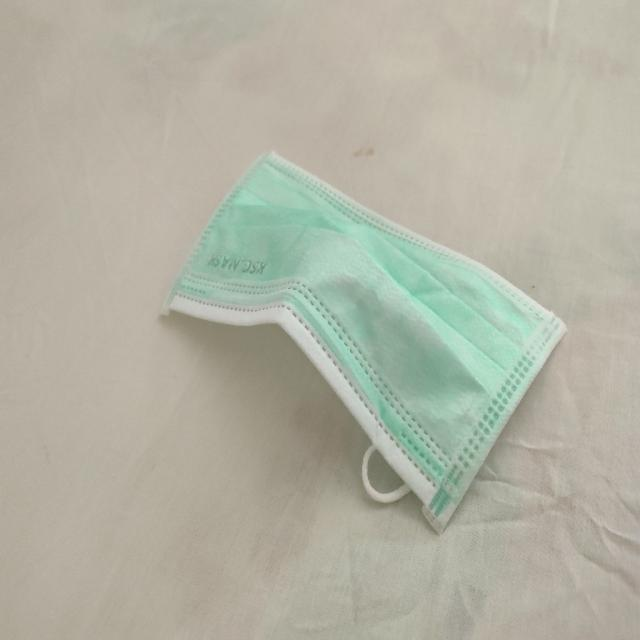face mask: (154, 144, 566, 538)
